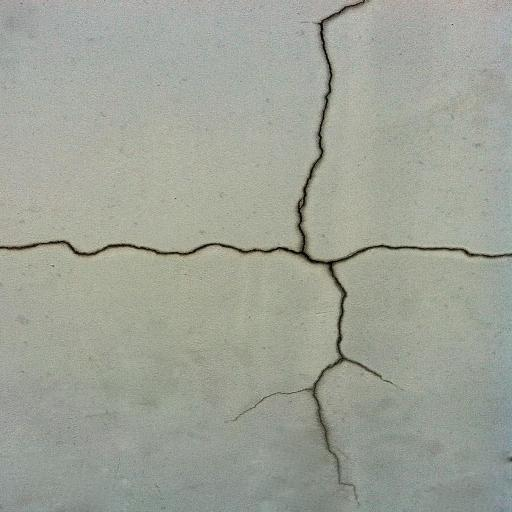spalling: (219, 278, 399, 486), (287, 0, 382, 244), (4, 231, 504, 272)
